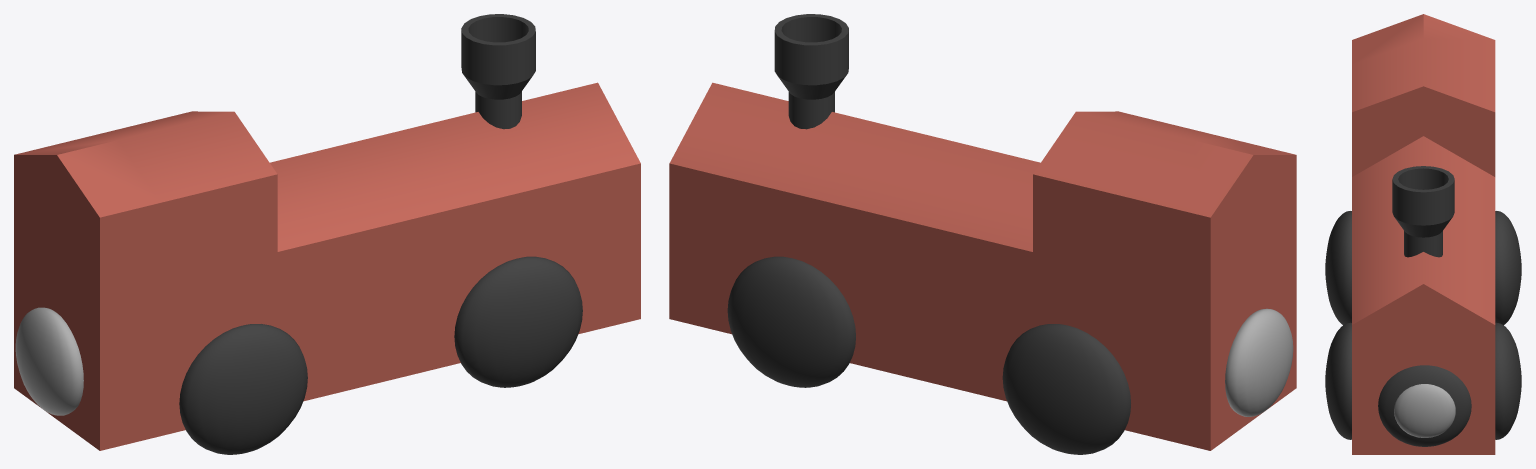
The model's file is Train.fbx.
3 renders of one model, left to right at view 1: azimuth 30°, elevation 25°; view 2: azimuth 150°, elevation 25°; view 3: azimuth 270°, elevation 25°, orthographic. The views are drawn at different scales.
Parts seen in each view (by area): view 1: polySurface179; view 2: polySurface179; view 3: polySurface179.
Part boxes in pixels (left/top/right/bottom): polySurface179: left=14, top=14, right=640, bottom=454; polySurface179: left=669, top=14, right=1296, bottom=454; polySurface179: left=1325, top=14, right=1521, bottom=454.
Bounding box in the file's own units: 3.97 × 2.04 × 1.37.
